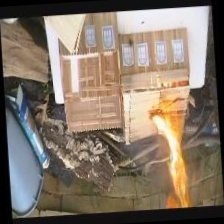fire: (139, 102, 196, 211)
